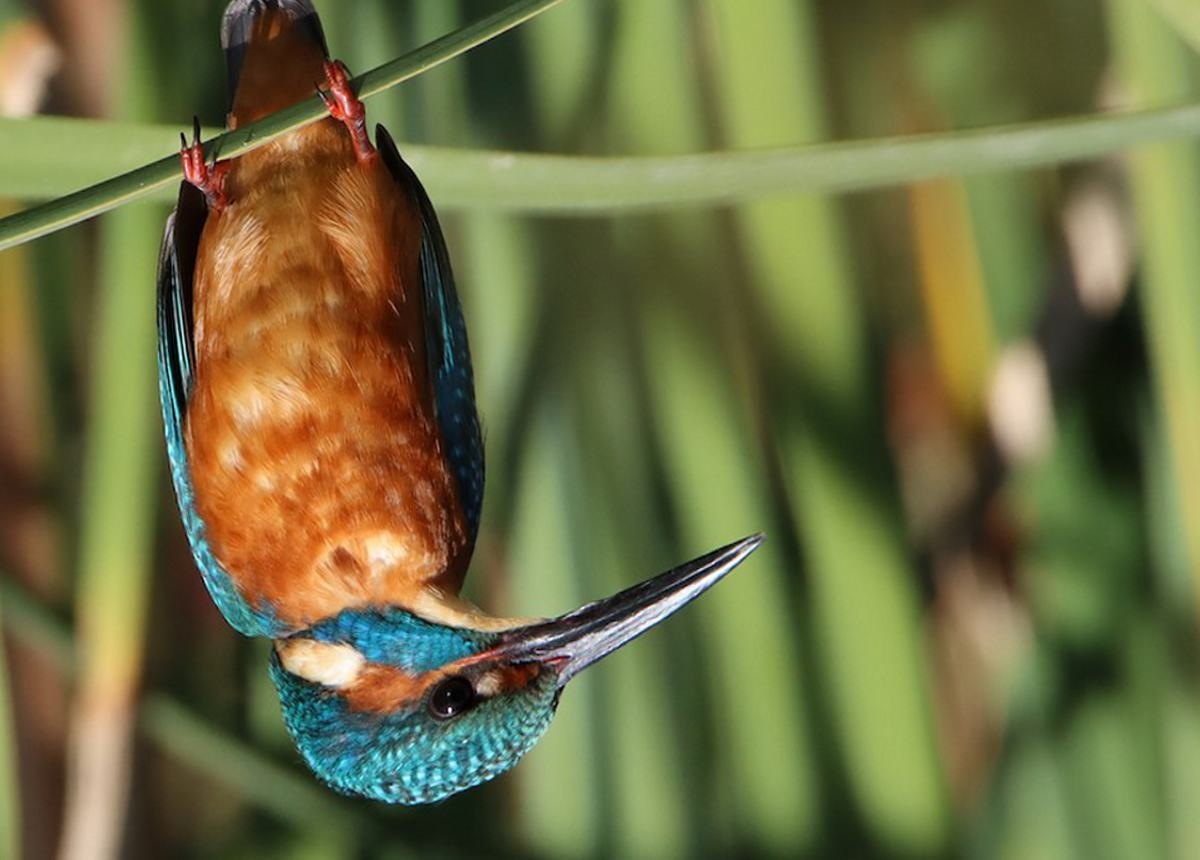kingfisher: (163, 10, 765, 795)
